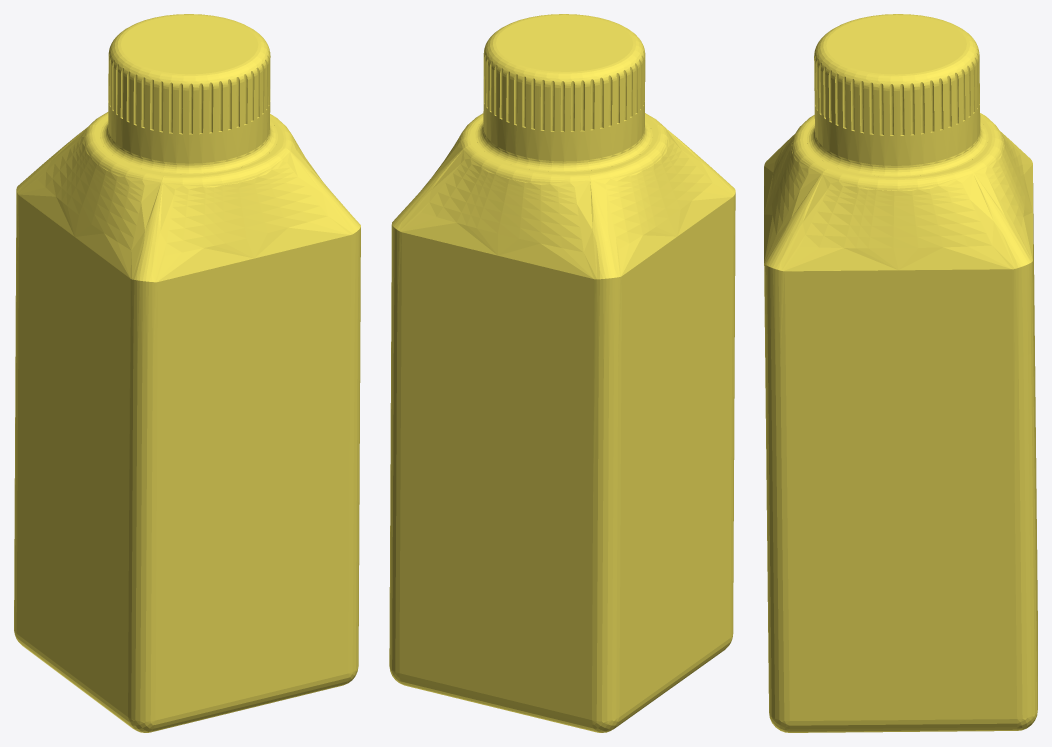
File: bottle_final1.dae
The picture shows the model from 3 angles, left to right: view 1: azimuth 30°, elevation 25°; view 2: azimuth 150°, elevation 25°; view 3: azimuth 270°, elevation 25°; orthographic projection. The views are drawn at different scales.
Parts seen in each view (by area): view 1: bottle_metric; view 2: bottle_metric; view 3: bottle_metric.
Boxes of the visible parts, box(x1,y1,x2,y2) form: bottle_metric: box(14, 14, 360, 732); bottle_metric: box(389, 14, 735, 732); bottle_metric: box(764, 14, 1037, 732).
Bounding box in the file's own units: 0.065 × 0.0662 × 0.1704.
